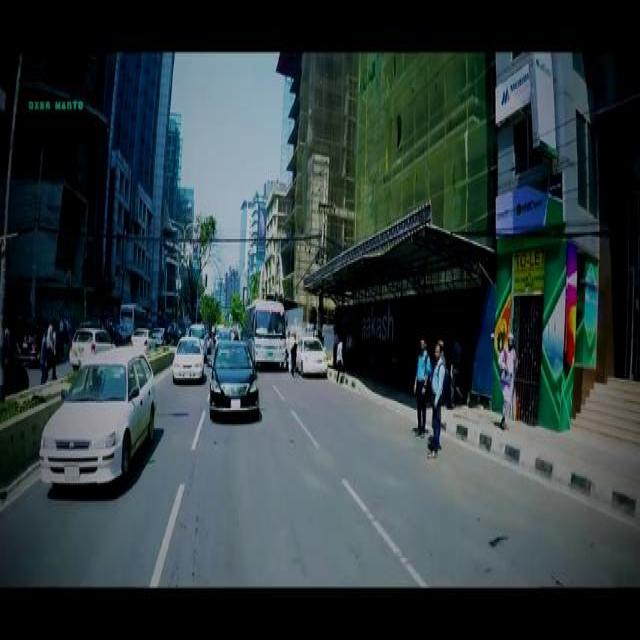5: (36, 344, 154, 485), (207, 341, 260, 414), (68, 327, 114, 363), (172, 332, 204, 376), (295, 336, 327, 375), (128, 325, 150, 347), (150, 323, 164, 342)
Truck: (242, 298, 286, 360), (118, 301, 146, 335)
